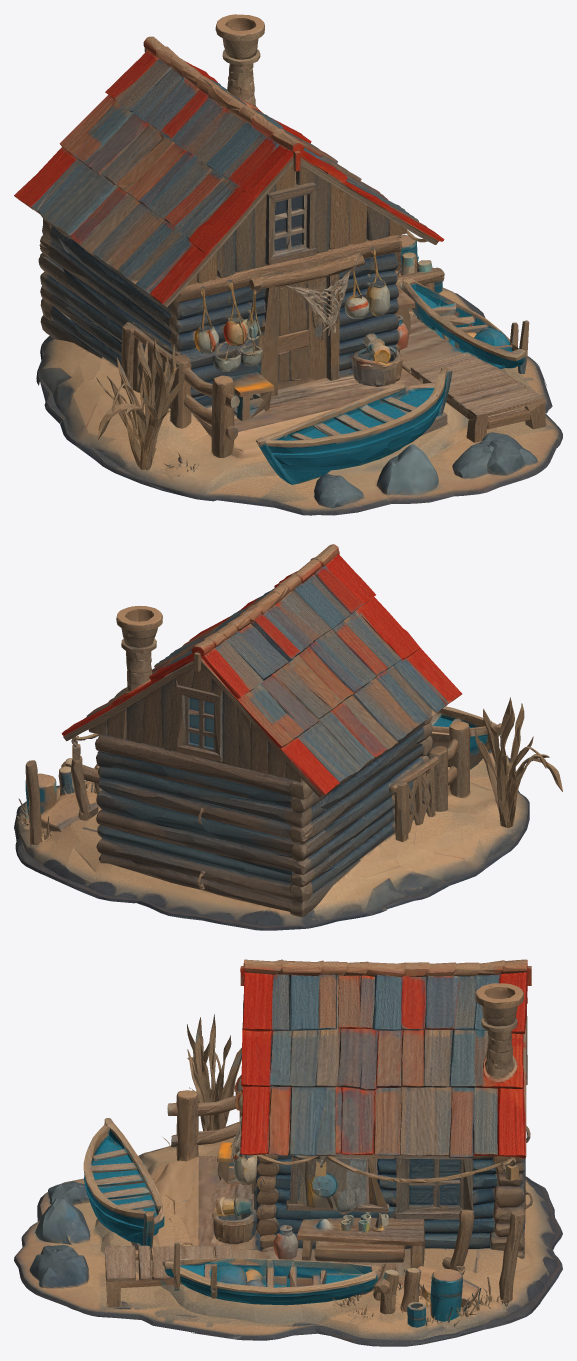
File: a7_fish_shack.glb
3 views of the same model, one above another, from view 1: azimuth 30°, elevation 25°; view 2: azimuth 150°, elevation 25°; view 3: azimuth 270°, elevation 25° (orthographic). The views are drawn at different scales.
Bounding box in the file's own units: 1.82 × 1.04 × 1.9.
1 material, 1 textured.
